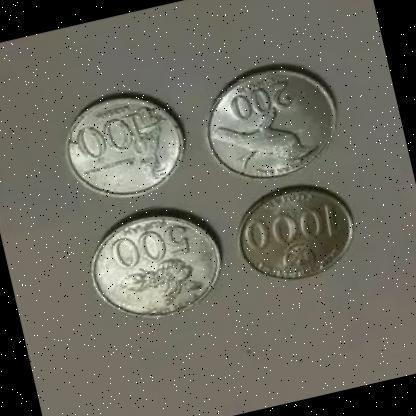coin_1000_e2010: (239, 189, 354, 283)
